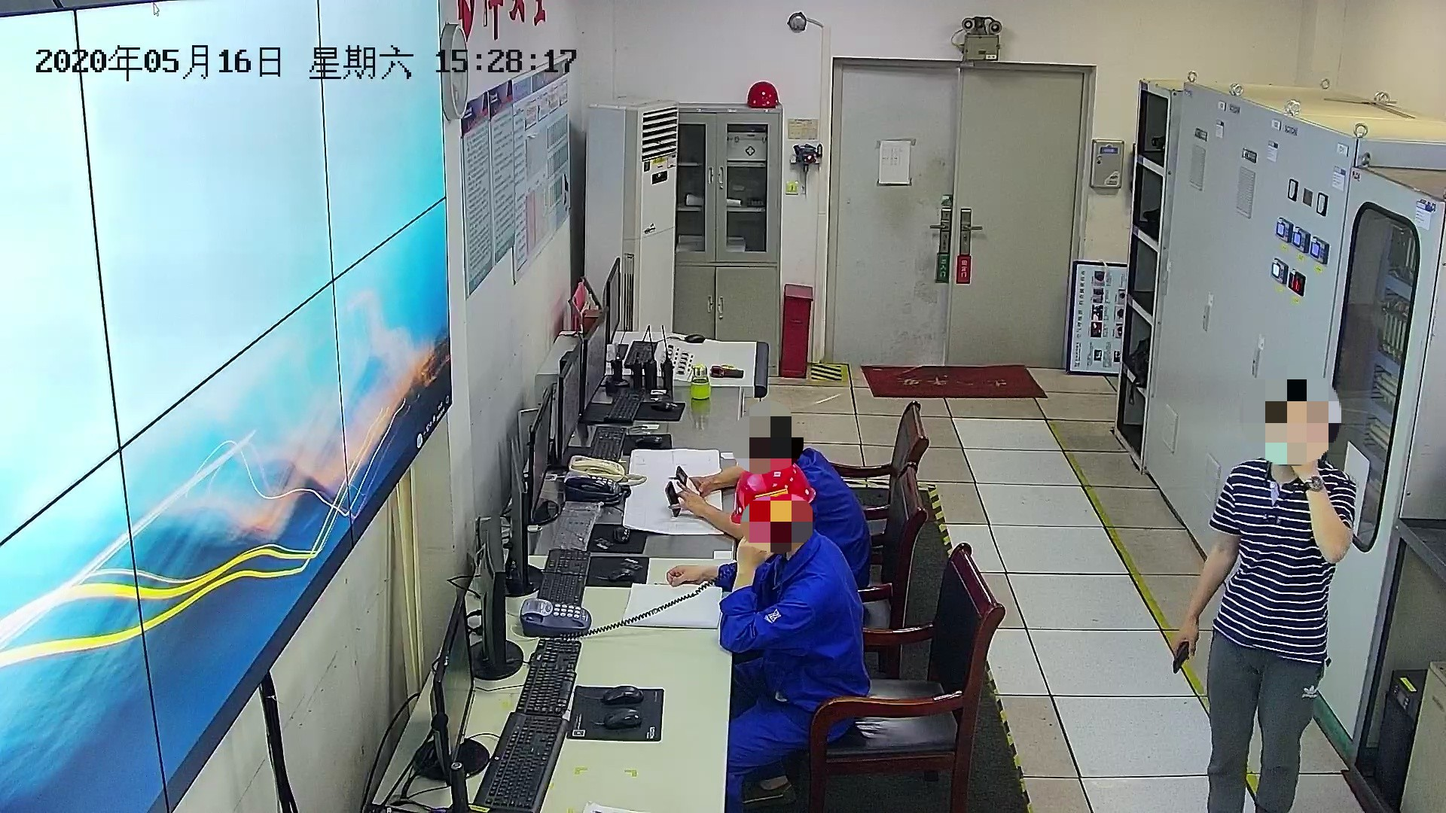hat: (730, 458, 816, 550)
head: (1257, 378, 1326, 464), (737, 410, 799, 473)
person: (1167, 373, 1356, 812), (665, 452, 870, 800), (665, 406, 871, 592)
